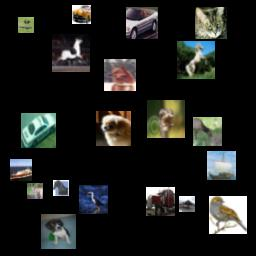airplane: (179, 196, 195, 212)
automobile: (21, 113, 56, 148), (126, 7, 158, 39), (72, 5, 91, 24)
bird: (147, 100, 185, 138), (209, 196, 247, 234), (79, 185, 108, 214), (18, 17, 34, 33)
cat: (195, 7, 227, 39)
deer: (193, 117, 222, 146), (27, 183, 43, 199)
dog: (96, 111, 131, 146), (41, 214, 76, 249), (104, 59, 136, 91)
ship: (207, 151, 236, 180), (10, 159, 32, 181)
truck: (146, 187, 175, 216)
